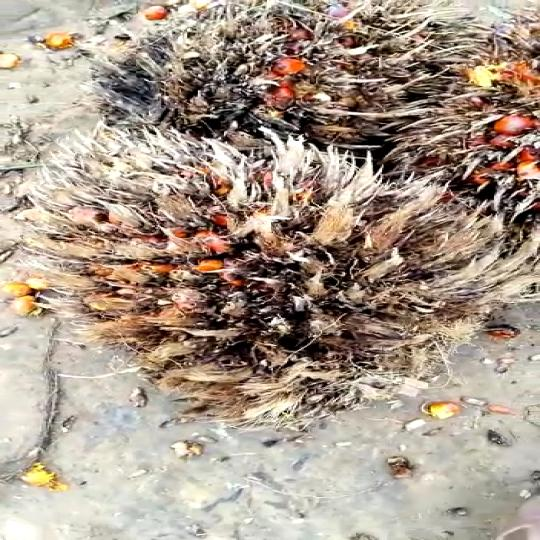terlalu masak: (12, 148, 518, 399), (67, 13, 477, 144)
